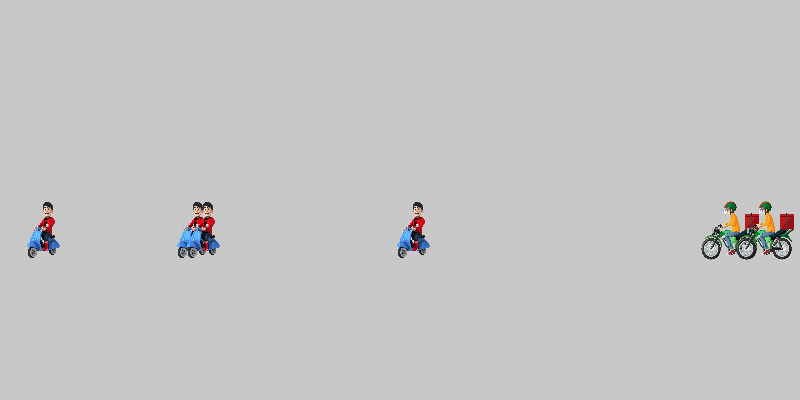helmet: (700, 200, 760, 260), (735, 200, 795, 260)
no_helmet: (15, 200, 75, 260), (165, 200, 225, 260), (175, 200, 235, 260), (385, 200, 445, 260)
